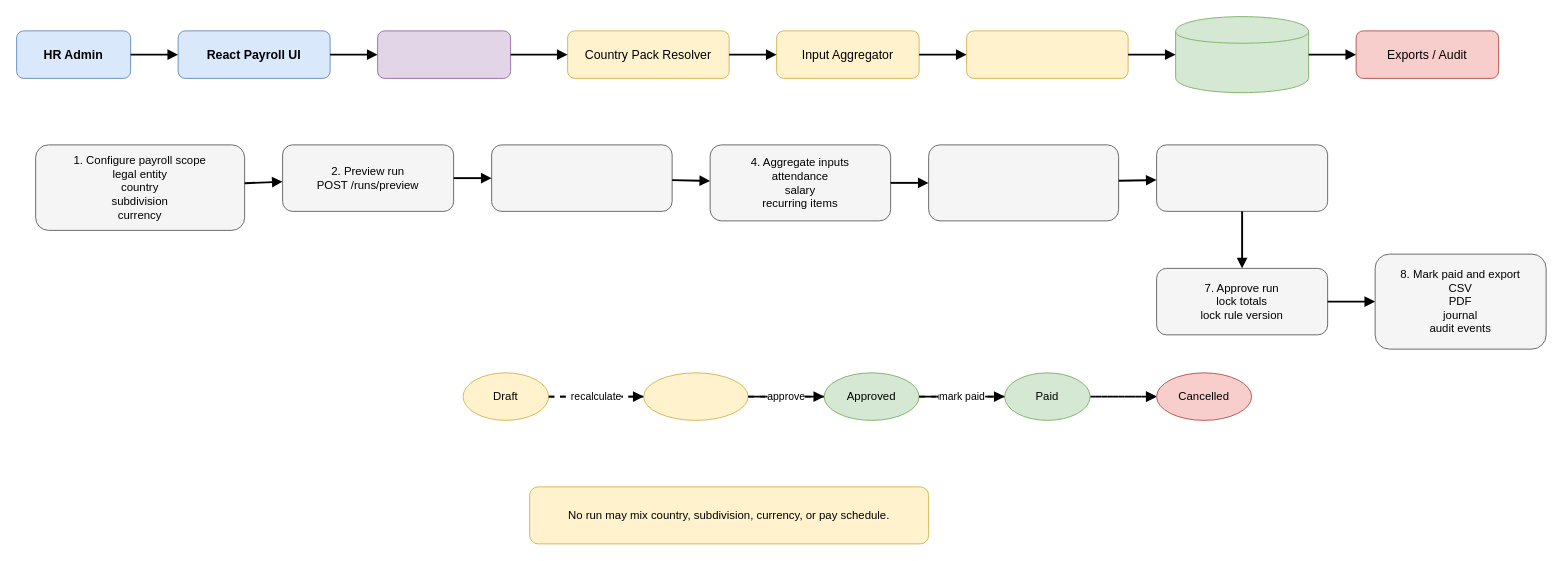
Some shapes in this 1563 by 561 pixel diagram are drawn without their labels. Each missing label, with the box of its shape:
3. Resolve pack effective-dated rule version: (491, 144, 672, 211)
5. Return componentized preview workers totals validations: (928, 144, 1119, 221)
6. Create draft run snapshot inputs + rules: (1156, 144, 1328, 211)
Calculated: (643, 372, 748, 420)
Payroll API: (377, 30, 511, 78)
Preview / Run Engine: (966, 30, 1128, 78)
Run Snapshots: (1175, 16, 1309, 93)
